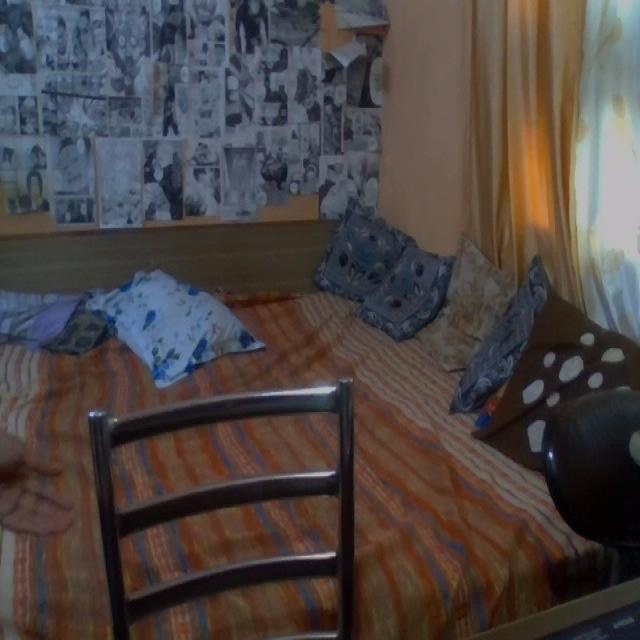away: (6, 3, 633, 640)
